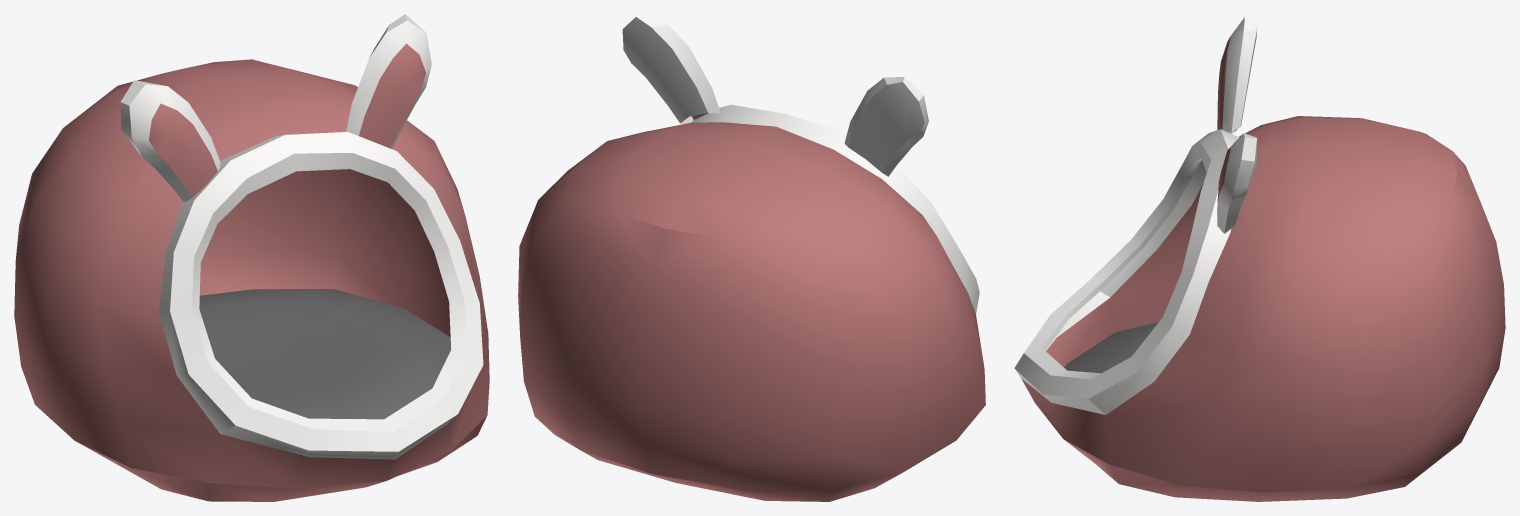
File: Cat bed.fbx
3 renders of one model, left to right at view 1: azimuth 30°, elevation 25°; view 2: azimuth 150°, elevation 25°; view 3: azimuth 270°, elevation 25°, orthographic. The views are drawn at different scales.
Visible parts, largest first — view 1: Cat bed; view 2: Cat bed; view 3: Cat bed.
Boxes of the visible parts, left/top/right/bottom form: Cat bed: left=14, top=14, right=489, bottom=501; Cat bed: left=518, top=14, right=985, bottom=501; Cat bed: left=1014, top=14, right=1505, bottom=501.
Size of the model in its own units: 111 by 98.47 by 120.
